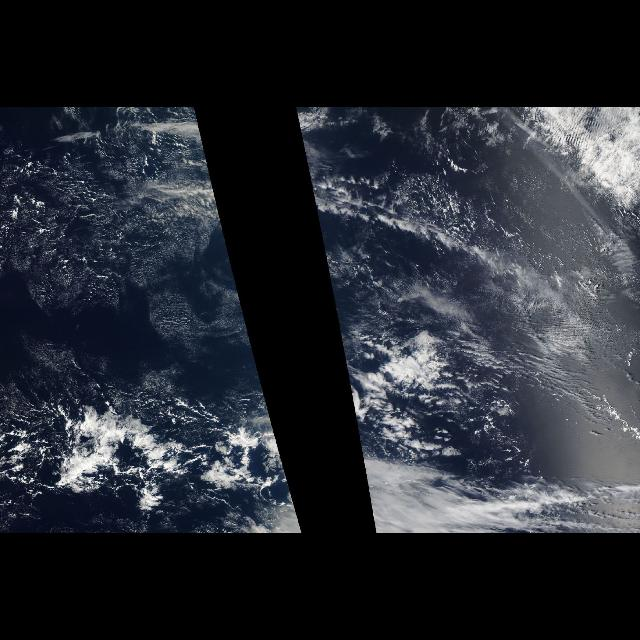Fish: (14, 323, 302, 533), (338, 323, 488, 513)
Sugar: (46, 208, 255, 394), (434, 229, 636, 393)
